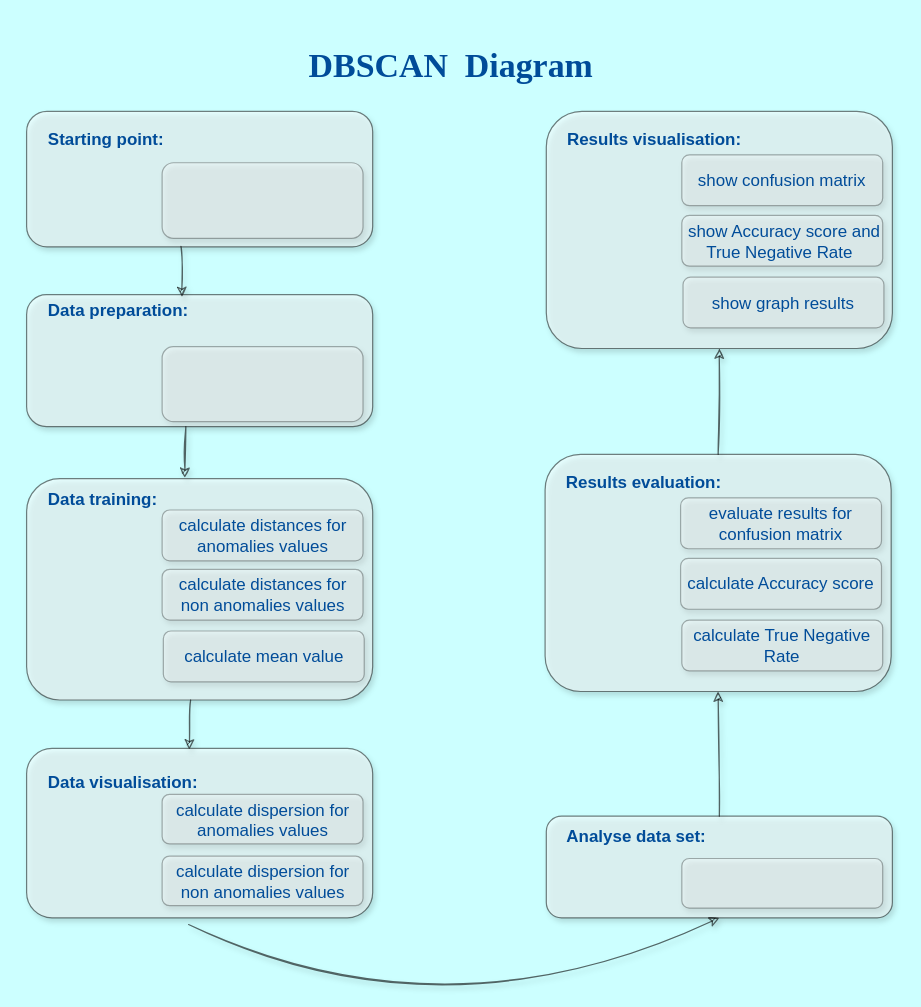
Some shapes in this 921 by 1007 pixel diagram are drawn without their labels. Each missing label, with the centre of its shape:
"call algorithm DBSCAN" belongs at [783,884].
"call main function with data that needs to be analyzed" belongs at [263,202].
"split input data for training data into anomalies and not anomalies values" belongs at [263,385].
